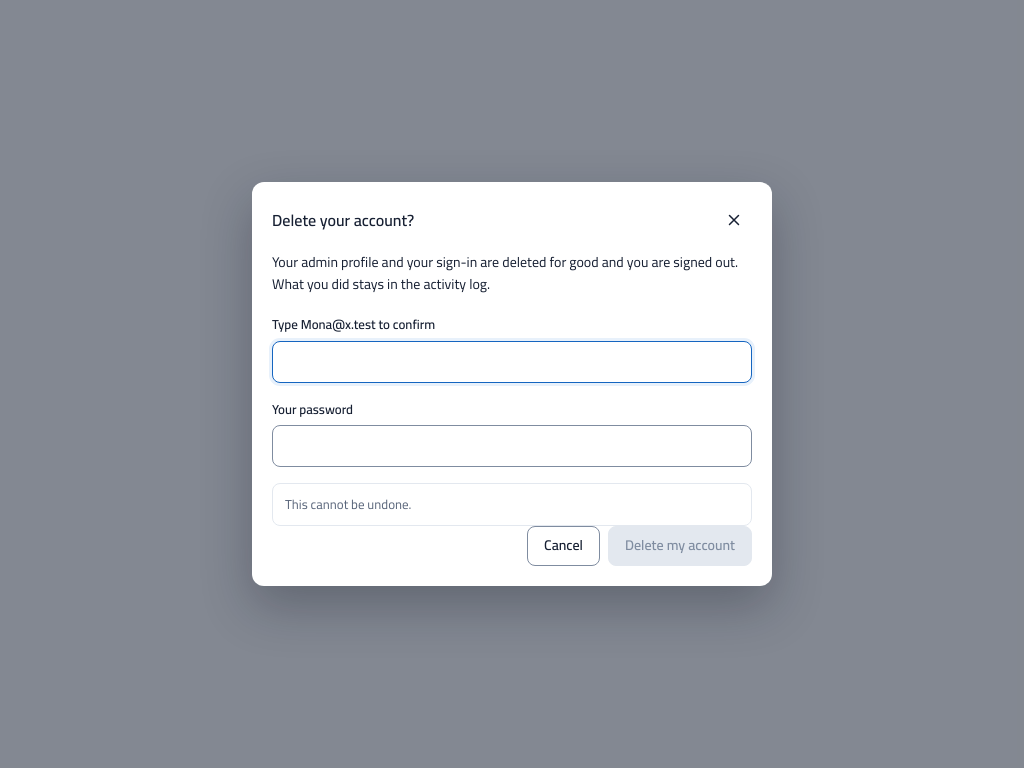
deleting your own account › says so when the login could not be removed
Type "mona@x.test" into the field labelled "Type Mona@x.test to confirm" at (512, 362), box 272,341 -> 752,383
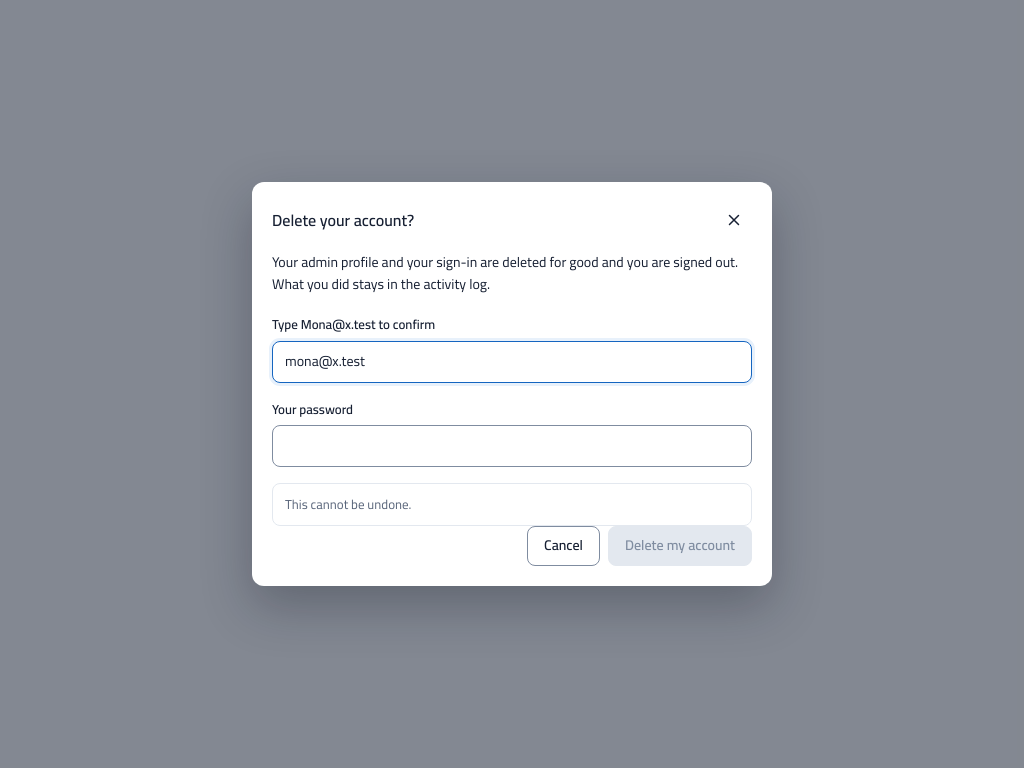
Type "secret12" into the password field labelled "Your password" at (512, 446), box 272,425 -> 752,467
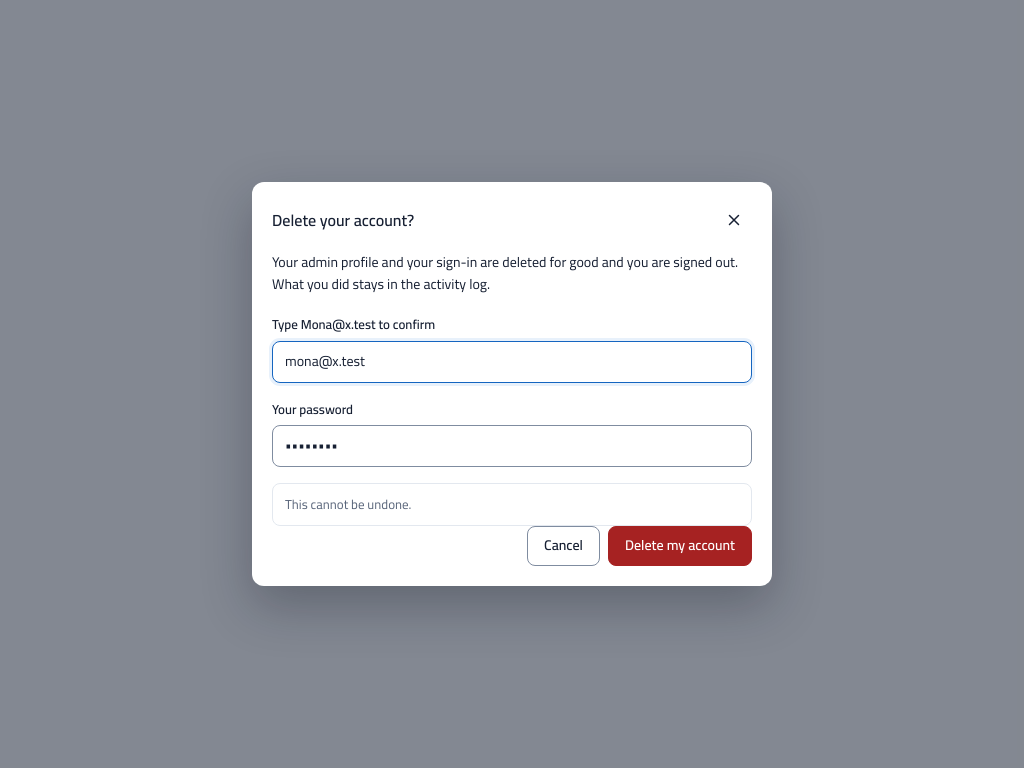
Click the button "Delete my account" at (680, 546), box 608,526 -> 752,566
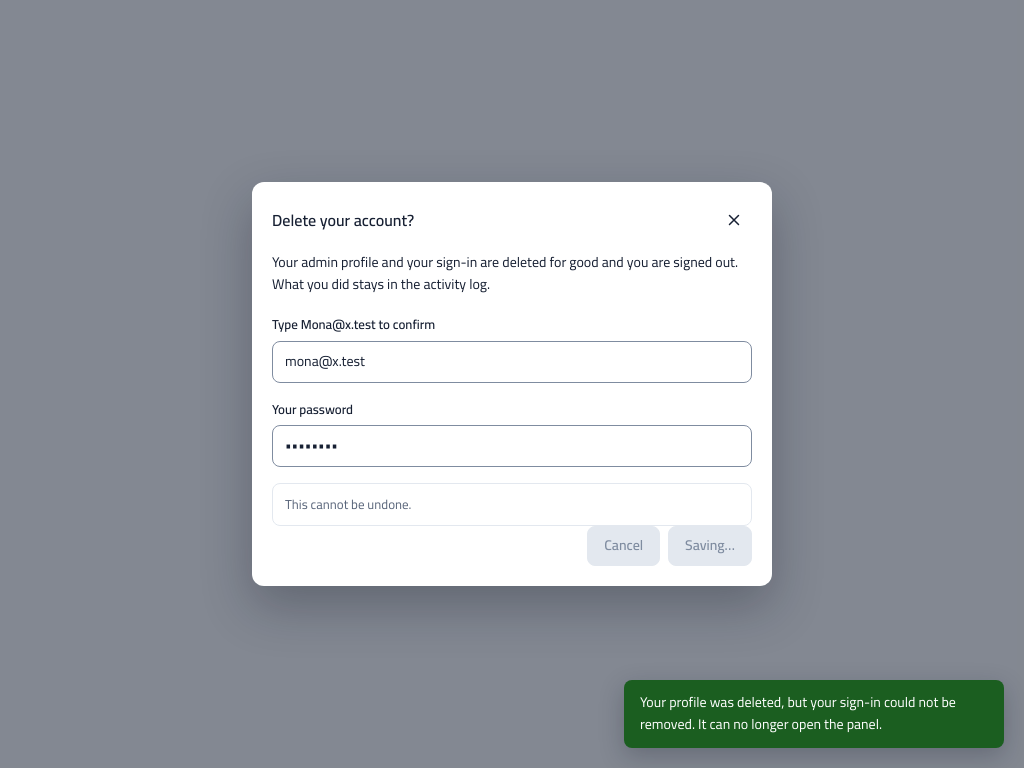
Check: the text "Your profile was deleted, but your sign-in could not be removed. It can no longer open the panel." is shown, box 640,689 -> 956,737
